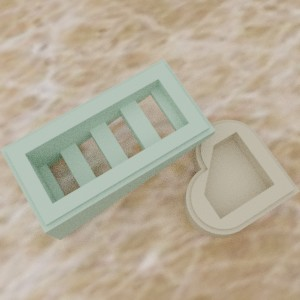lego: (0, 58, 215, 240), (183, 119, 300, 237)
